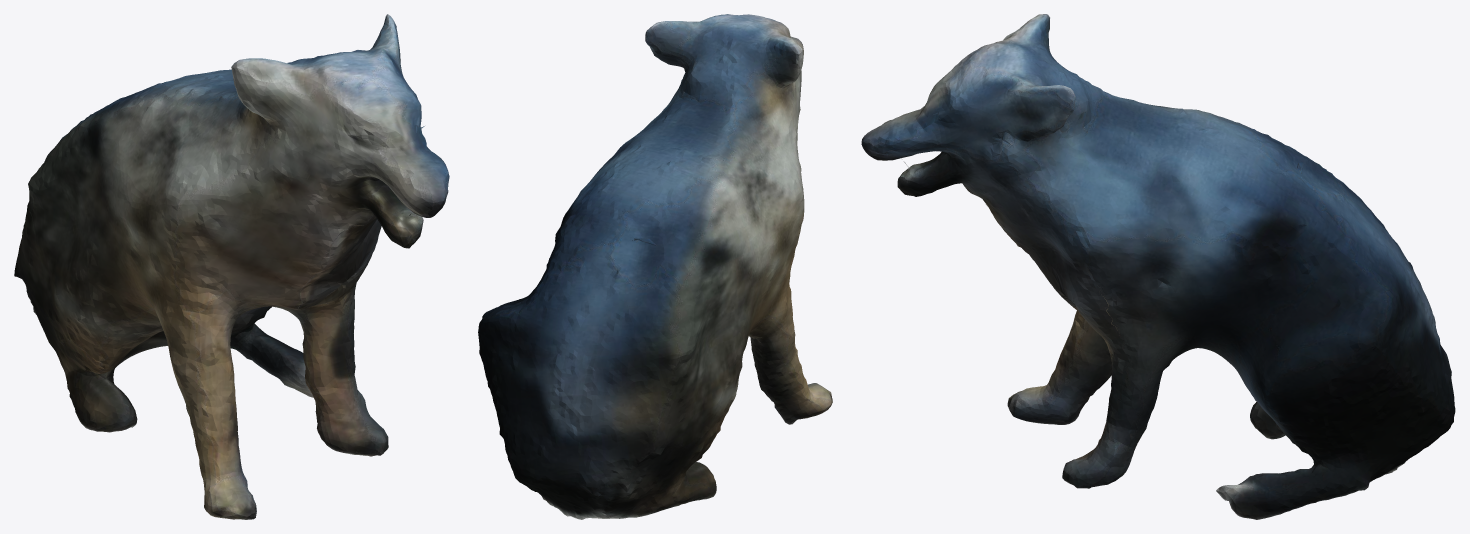
3 renders of one model, left to right at view 1: azimuth 30°, elevation 25°; view 2: azimuth 150°, elevation 25°; view 3: azimuth 270°, elevation 25°, orthographic. The views are drawn at different scales.
Visible parts, largest first — view 1: Mesh_0.002; view 2: Mesh_0.002; view 3: Mesh_0.002.
Boxes of the visible parts, x1=… form: Mesh_0.002: x1=14, y1=14, x2=449, y2=519; Mesh_0.002: x1=478, y1=14, x2=832, y2=519; Mesh_0.002: x1=861, y1=14, x2=1455, y2=519.
Size of the model in its own units: 0.65 by 1.09 by 1.39.
Materials: 1 (1 with a texture image).
